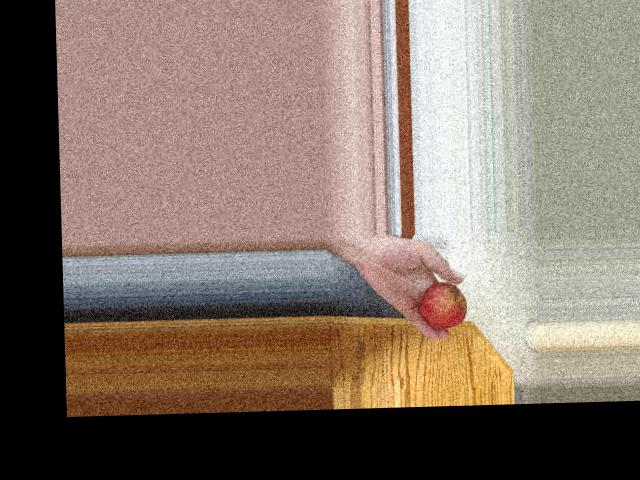apple: (416, 278, 467, 327)
